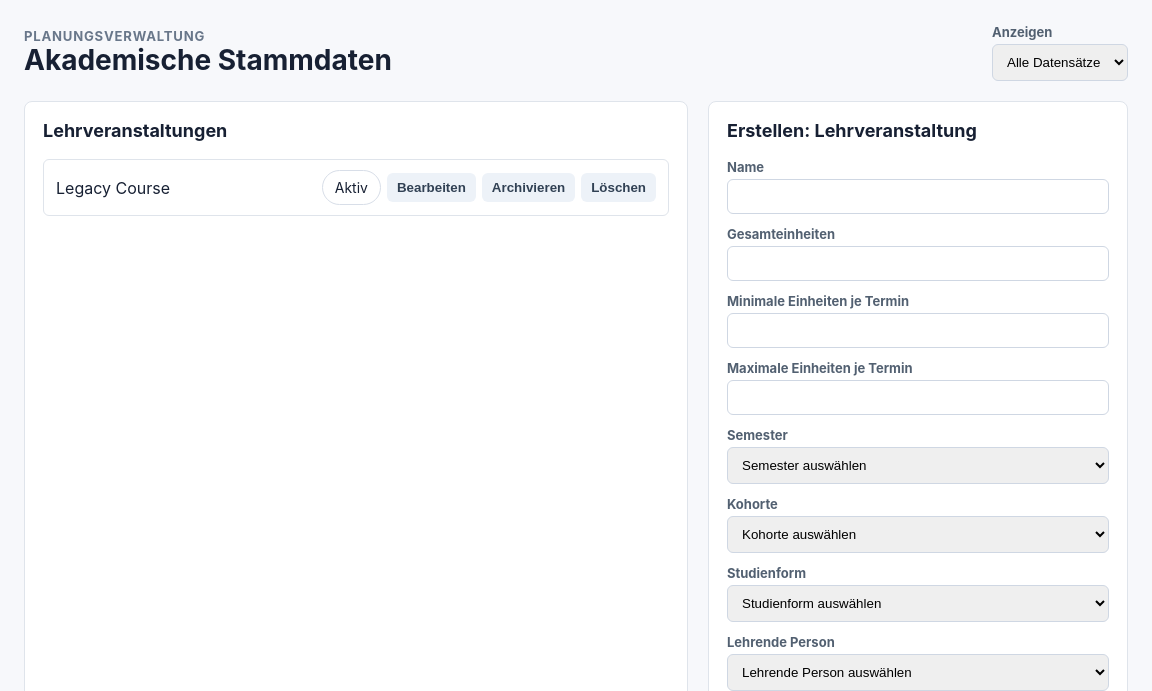
AcademicDataPage › keeps a migrated unassigned Course editable for Semester repair
Click the button "Bearbeiten" at (431, 188), box [387,173,476,202]
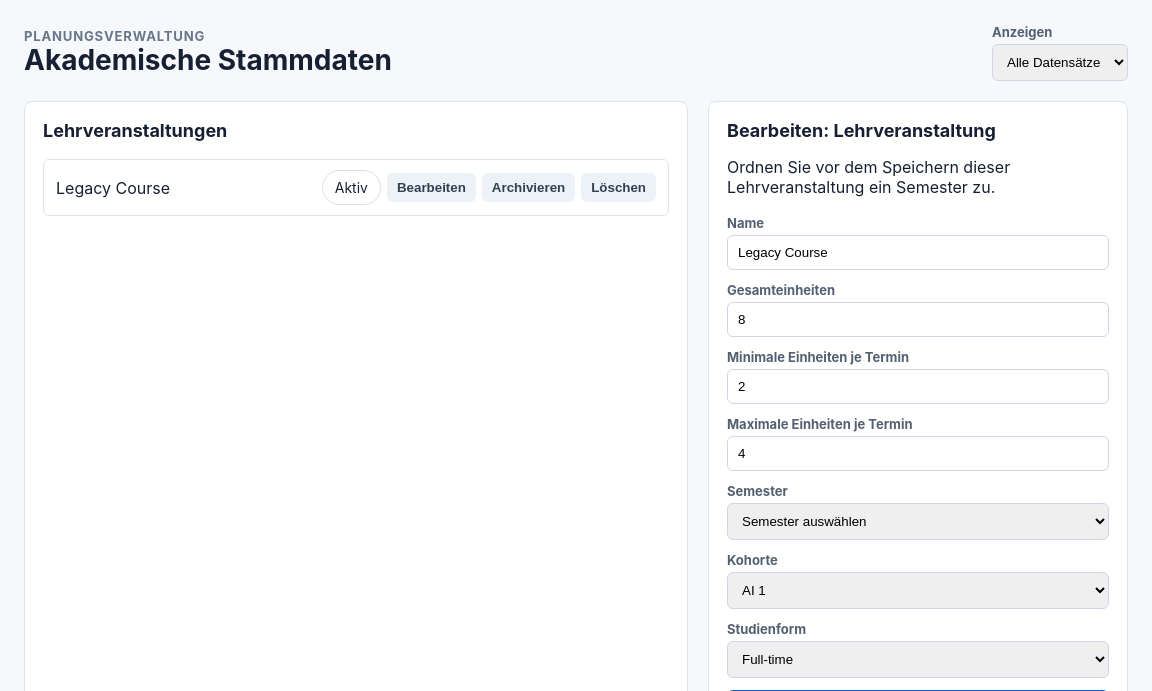
Expected: the dropdown named "semesterId" shows "Semester auswählen", [727,503,1109,540]
Now the text "Ordnen Sie vor dem Speichern" is shown, box [727,157,1010,177]
